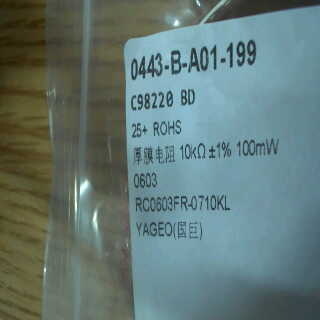10kR: (179, 137, 208, 161)
